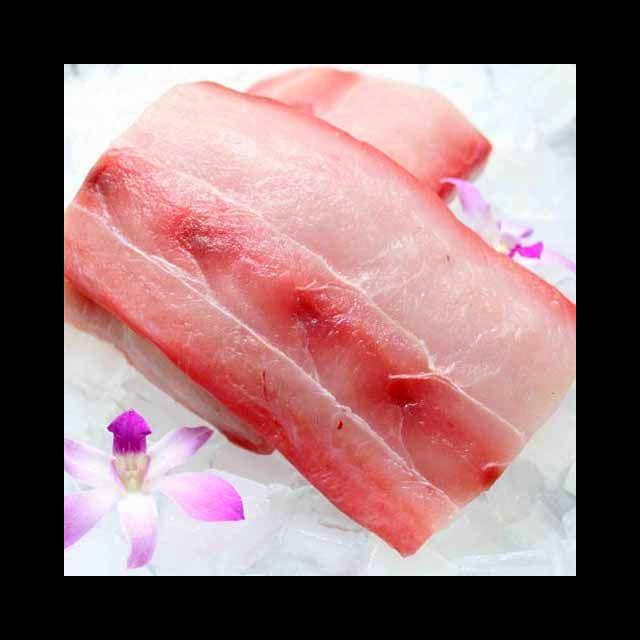fish: (64, 67, 576, 560)
